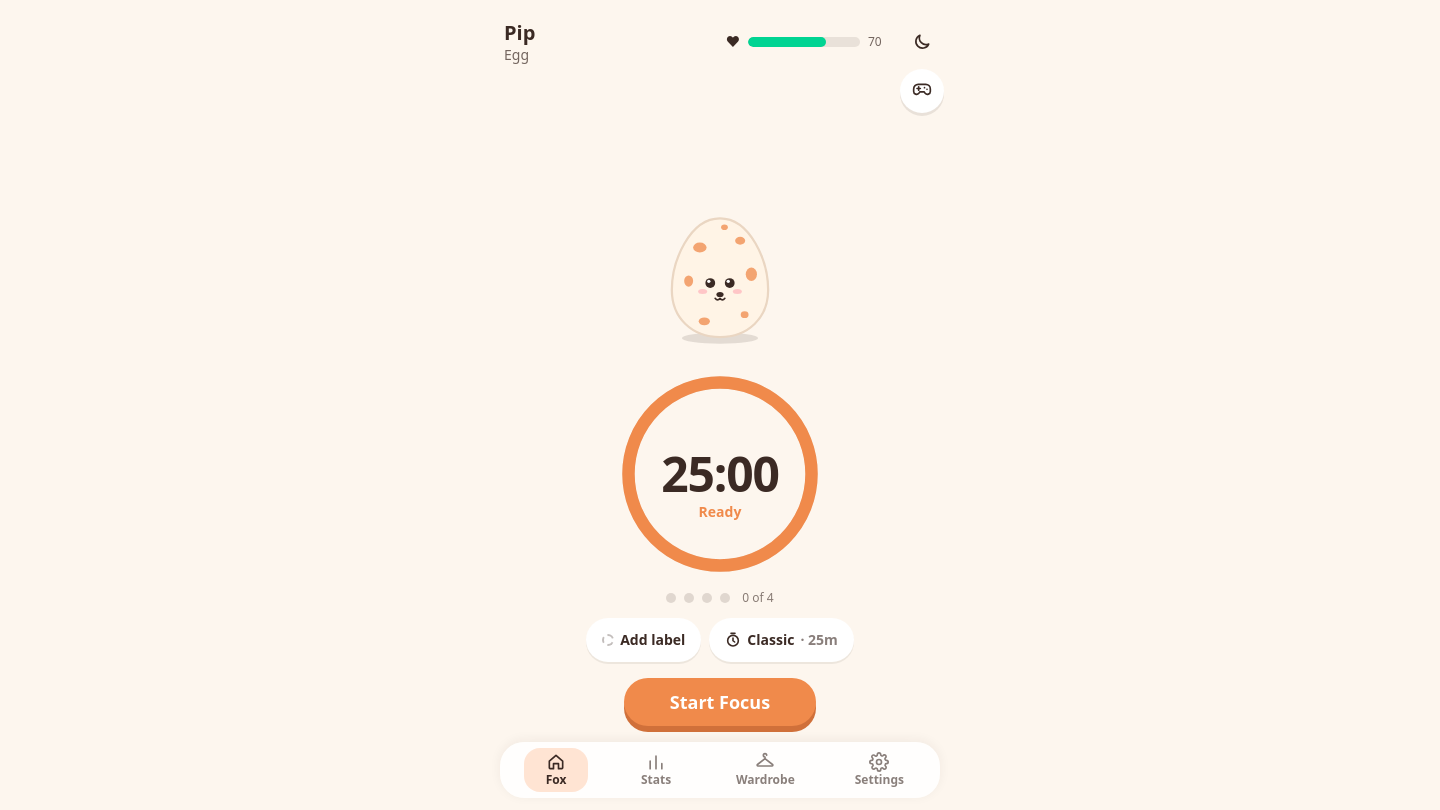
it: Game picker and screen › opens a game from the picker and closes it with the X
The width and height of the screenshot is (1440, 810).
Click the button named "Play": click(922, 91) [900,69,944,113]
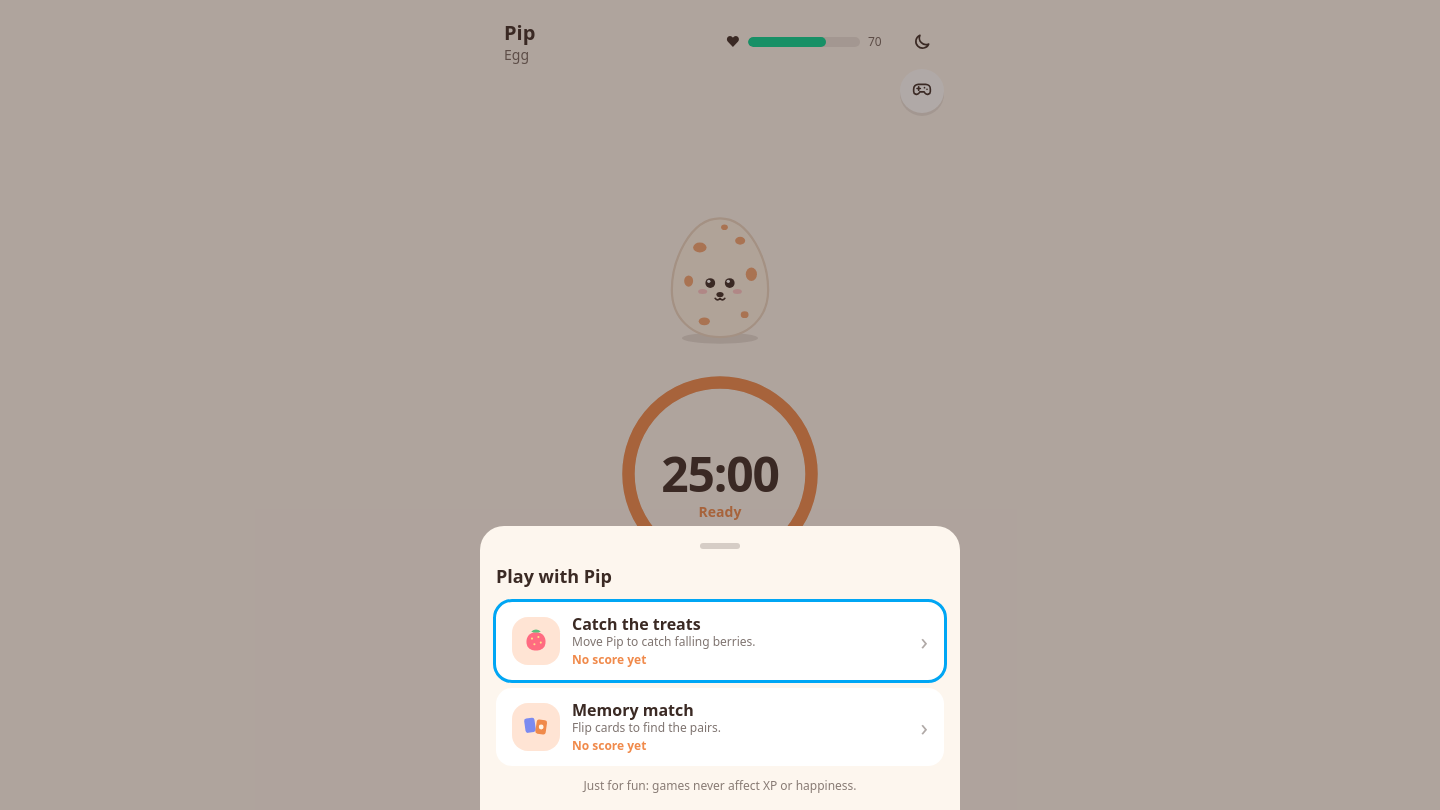
Now the dialog "Play with Pip" is shown, box [480,526,960,809]
Now the text "No score yet" is shown 2 times, box [572,651,646,668]; [572,737,646,754]
Click the text "Memory match": click(633, 710) [572,699,694,721]
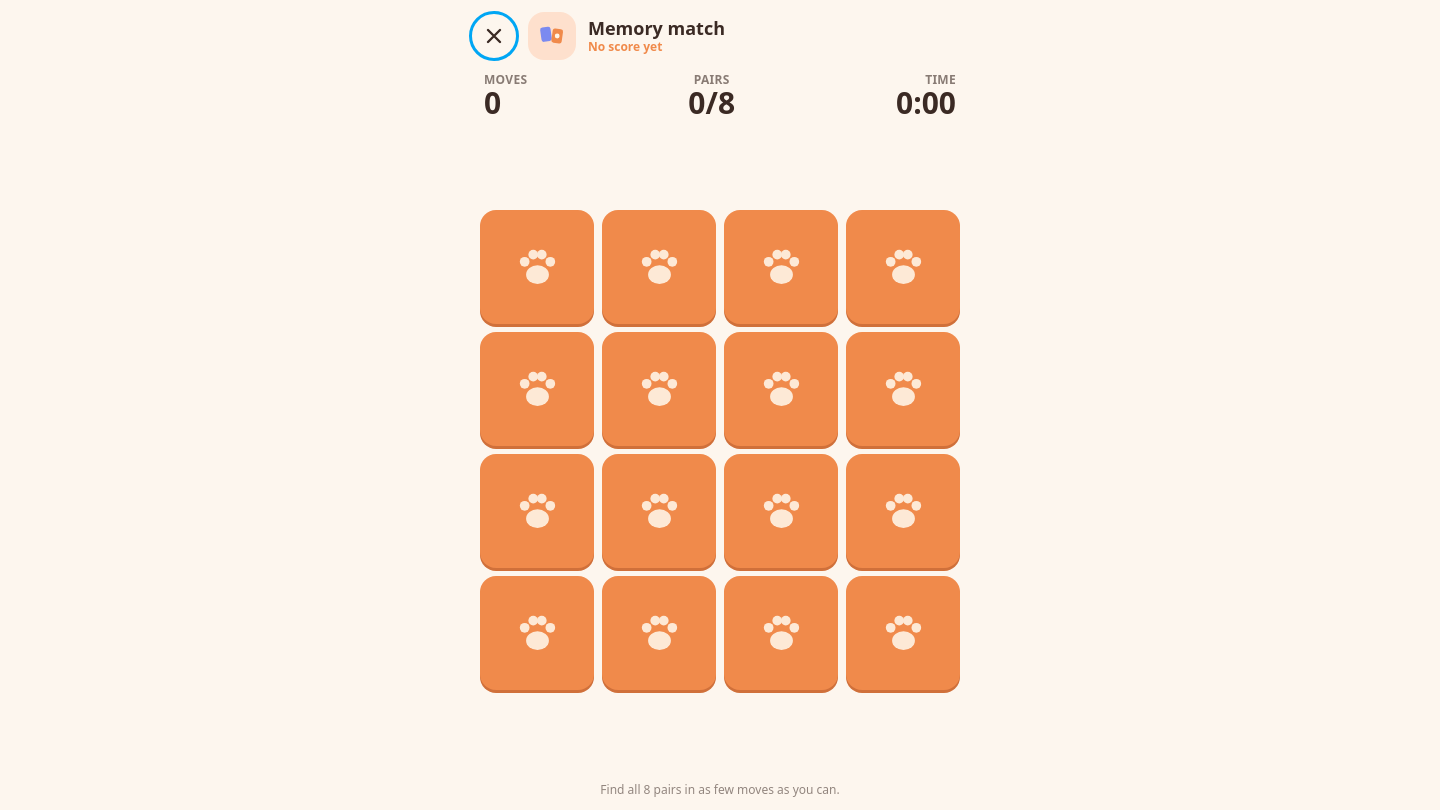
Now the dialog "Memory match" is shown
Click the button named "Close game": click(494, 36) [472,14,516,58]
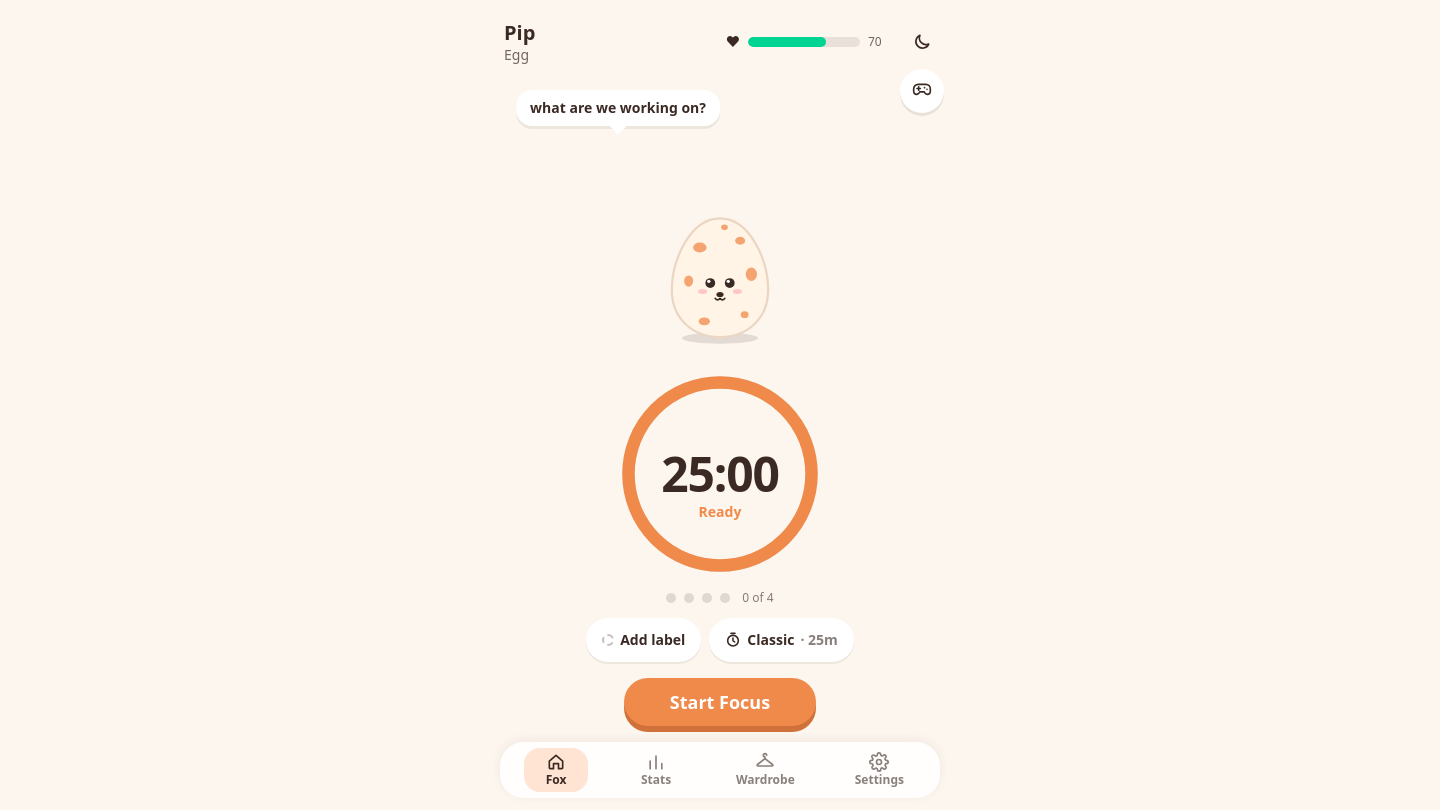
Expected: the button "Start Focus" is shown, [624,678,816,726]
Now the heading "Memory match" is gone
